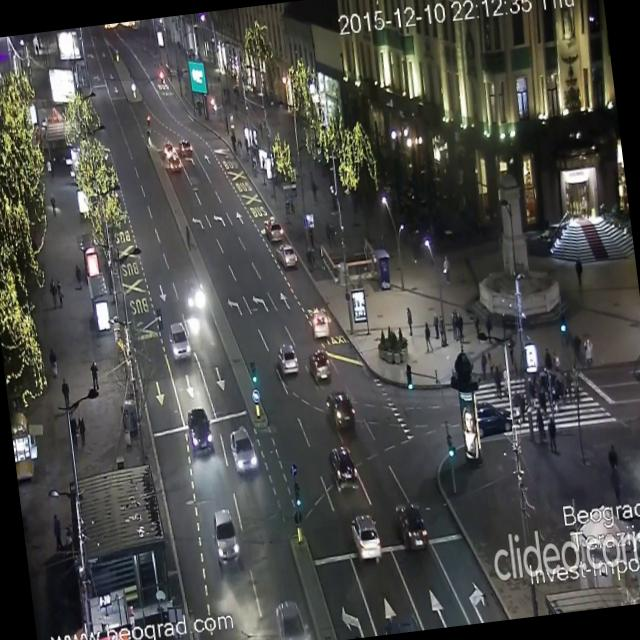car: (209, 506, 241, 566), (394, 501, 430, 552), (350, 512, 382, 565), (273, 596, 310, 640), (228, 423, 258, 475), (473, 398, 512, 437), (185, 405, 214, 456), (324, 388, 356, 432), (327, 444, 357, 490), (166, 321, 192, 362), (307, 348, 332, 383), (276, 342, 300, 375), (311, 310, 330, 342), (265, 220, 285, 248), (275, 240, 297, 264), (168, 157, 184, 177), (177, 138, 195, 152), (162, 141, 175, 159)
